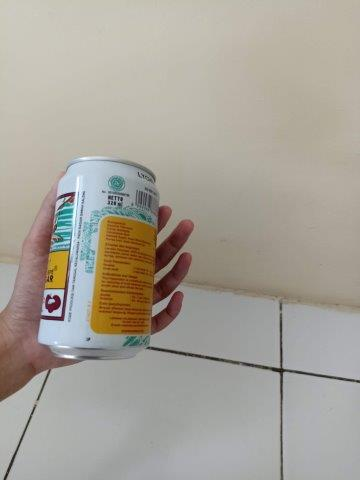kaleng: (36, 157, 155, 358)
